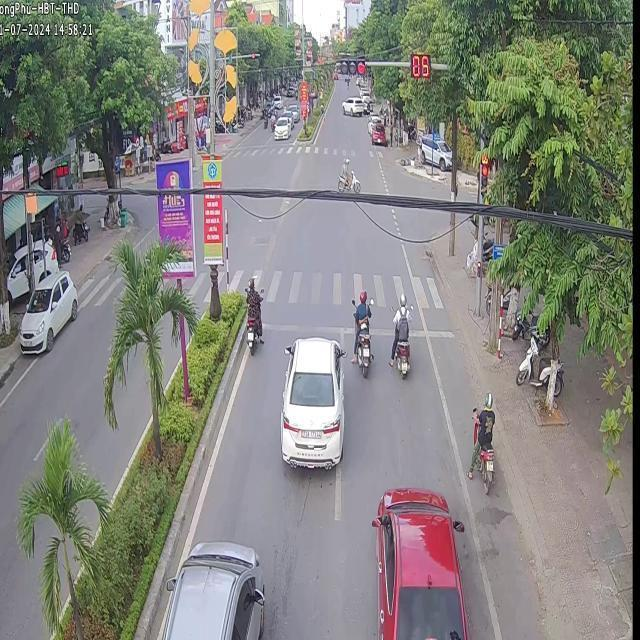car: (370, 487, 467, 638), (160, 540, 263, 638), (279, 336, 344, 467), (17, 269, 77, 351)
motobike: (466, 391, 493, 478), (387, 291, 410, 376), (243, 276, 260, 351), (356, 316, 369, 376)
red_light: (409, 49, 431, 75), (338, 57, 365, 74), (481, 152, 489, 196)
stop_line: (262, 321, 352, 332), (368, 322, 392, 335)
